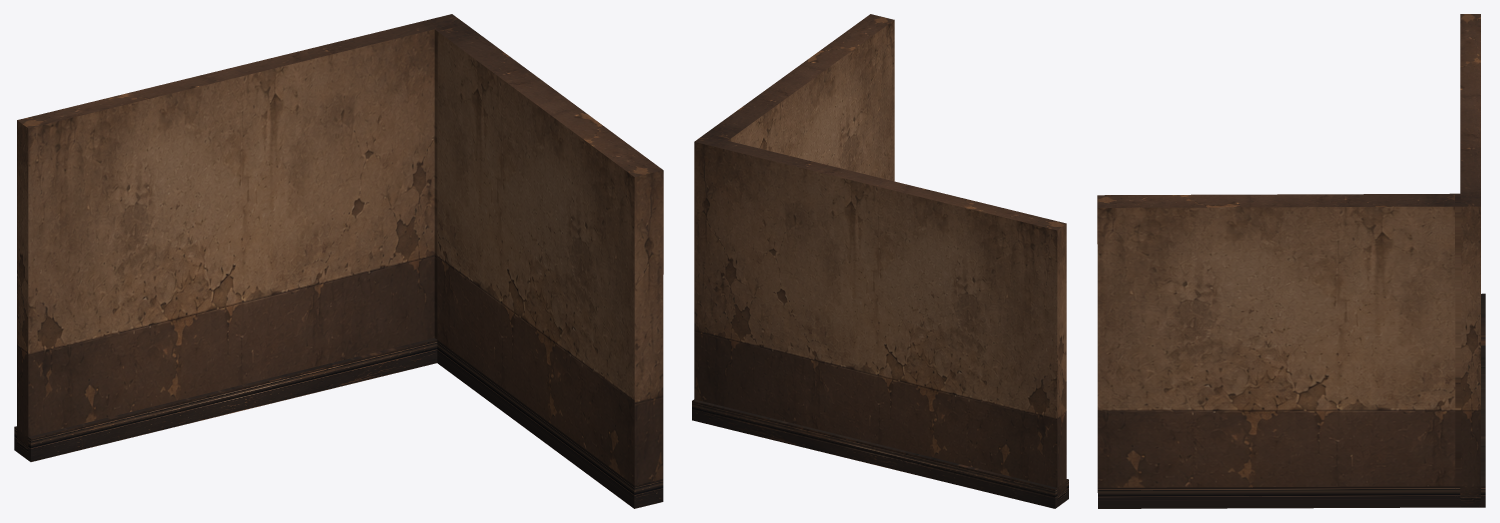
The model's file is ParedEsquina.fbx.
3 renders of one model, left to right at view 1: azimuth 30°, elevation 25°; view 2: azimuth 150°, elevation 25°; view 3: azimuth 270°, elevation 25°, orthographic. The views are drawn at different scales.
Parts seen in each view (by area): view 1: pared2; view 2: pared2; view 3: pared2.
Part boxes in pixels (x1,y1,x2,y2): pared2: (14, 14, 663, 508); pared2: (692, 14, 1068, 508); pared2: (1097, 14, 1485, 508).
Bounding box in the file's own units: 1191 × 872 × 1014.
Materials: 1 (1 with a texture image).
